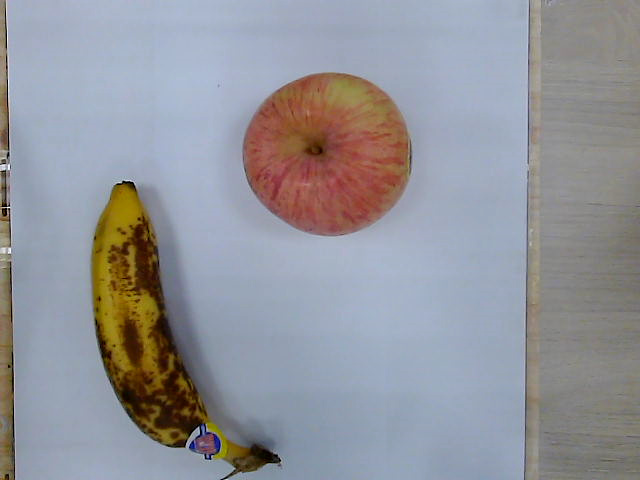fresh_apple: (243, 73, 411, 236)
rotten_banana: (91, 182, 282, 477)
